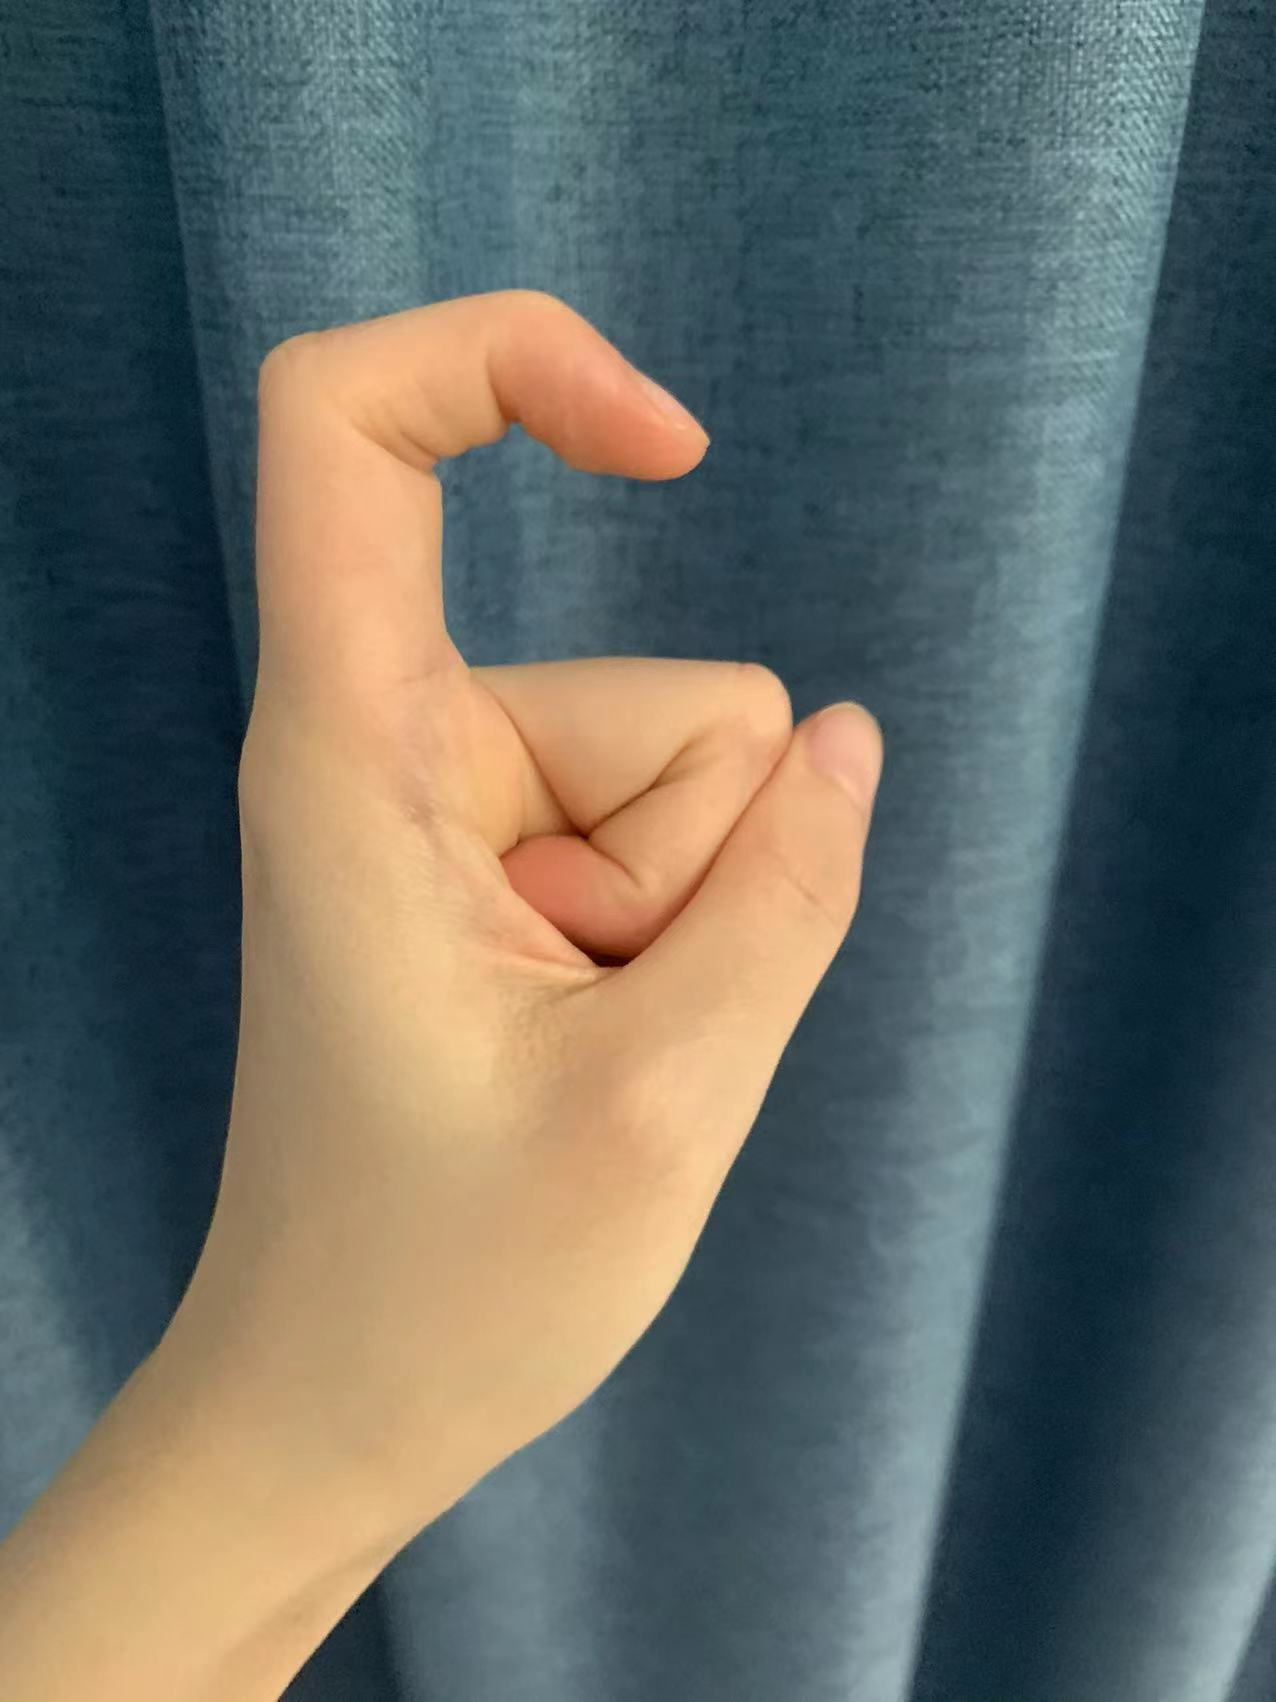anticlockwise: (180, 273, 911, 1441)
